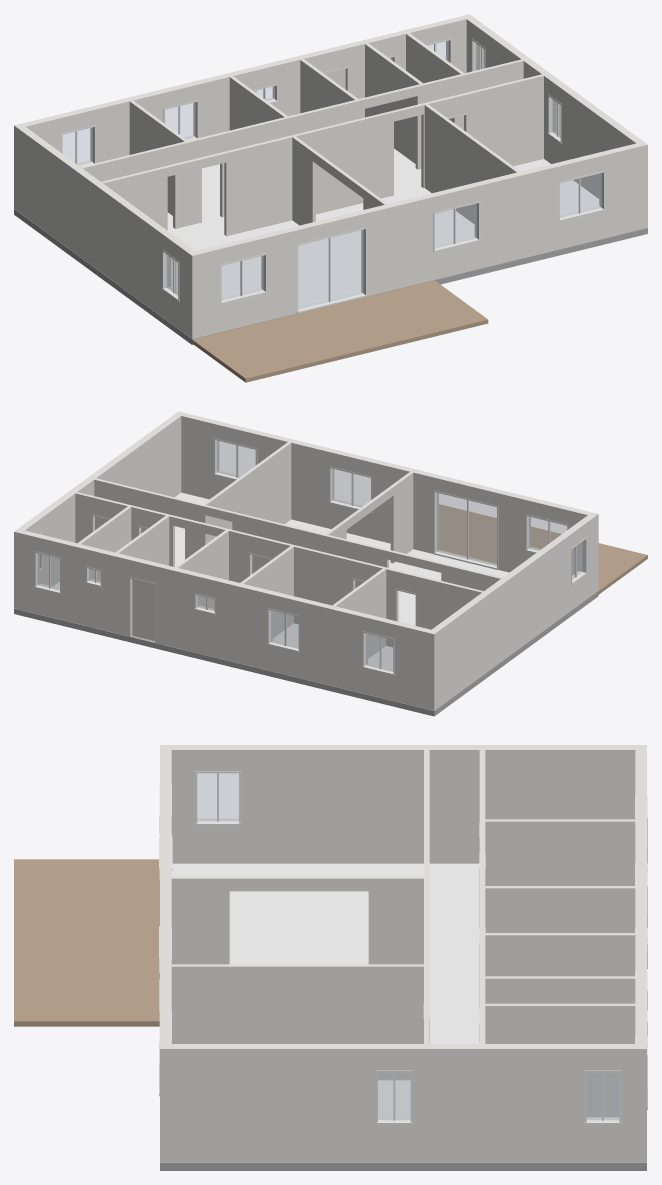
The model's file is house1_scandi_shell.glb.
3 renders of one model, top to bottom at view 1: azimuth 30°, elevation 25°; view 2: azimuth 150°, elevation 25°; view 3: azimuth 270°, elevation 25°, orthographic. The views are drawn at different scales.
Parts seen in each view (by area): view 1: Terrace, Ext_W.003, y55.002, Ext_S.008, Ext_S.005, y55.006, Floor_Living_room, x11, Frame.010, Ext_S.011, Ext_E, x11.6 (+48 smaller); view 2: Ext_W.003, Ext_N.003, Terrace, Ext_N.006, x11, Ext_E, Slab, Ext_S.008, Ext_N, Frame.010, Ext_S.005, y55.002 (+51 smaller); view 3: Ext_W.003, Terrace, Ext_E, x11, Ext_E.003, Floor_Living_room, x3.6, Floor_Corridor, x13.0, x7.0, x9.4, x65 (+20 smaller).
Part boxes in pixels (x1,y1,x2,y2): Terrace: (190,280,488,382); Ext_W.003: (18,127,169,316); y55.002: (224,111,393,236); Ext_S.008: (476,163,558,268); Ext_S.005: (363,194,433,295); y55.006: (466,74,543,166); Floor_Living_room: (171,220,361,306); x11: (424,103,519,223); Frame.010: (298,230,363,309); Ext_S.011: (601,141,647,237); Ext_E: (561,87,643,198); x11.6: (365,43,422,163); Ext_W.003: (431,532,571,707); Ext_N.003: (300,598,365,692); Terrace: (439,504,647,595); Ext_N.006: (216,578,270,669); x11: (202,442,291,542); Ext_E: (106,414,181,497); Slab: (14,591,598,716); Ext_S.008: (257,431,332,528); Ext_N: (395,622,438,710); Frame.010: (437,493,496,565); Ext_S.005: (372,459,436,553); y55.002: (232,512,388,588); Ext_W.003: (241,745,635,863); Terrace: (14,859,159,1026); Ext_E: (171,1044,375,1162); x11: (171,964,426,1080); Ext_E.003: (413,1044,584,1162); Floor_Living_room: (172,863,423,964); x3.6: (485,819,635,885); Floor_Corridor: (429,863,479,1043); x13.0: (482,1003,635,1117); x7.0: (485,886,635,932); x9.4: (485,933,635,976); x65: (171,876,229,964).
Size of the model in its own units: 15.54 by 2.9 by 13.67.
